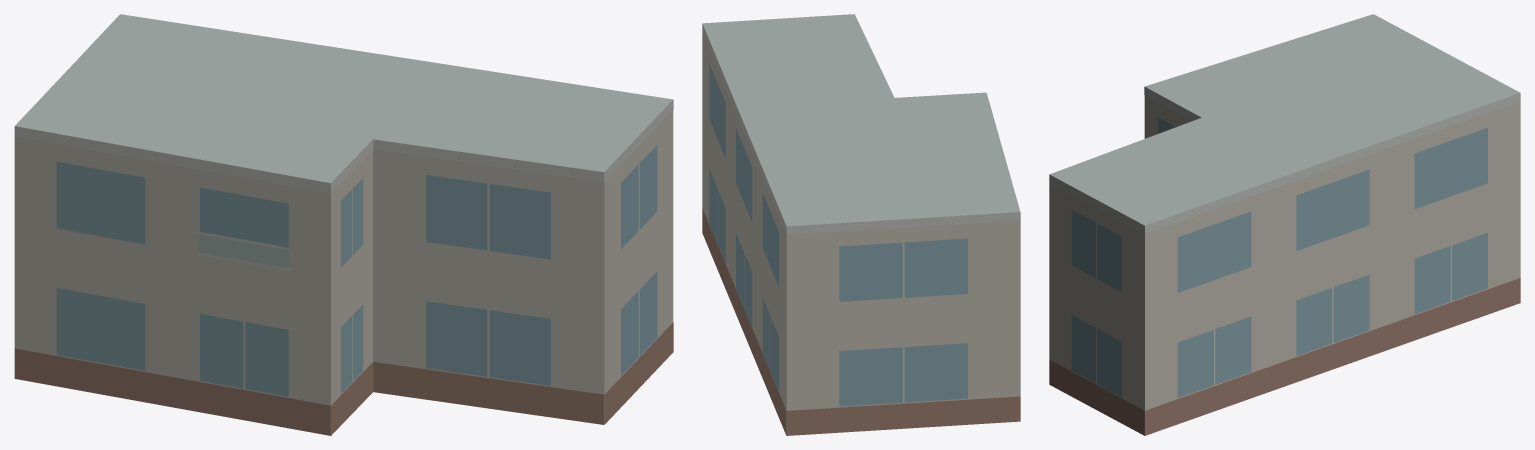
The model's file is survey-upis-32905699.glb.
The picture shows the model from 3 angles, left to right: view 1: azimuth 30°, elevation 25°; view 2: azimuth 150°, elevation 25°; view 3: azimuth 270°, elevation 25°; orthographic projection. The views are drawn at different scales.
Parts seen in each view (by area): view 1: survey-upis-32905699.tmp; view 2: survey-upis-32905699.tmp; view 3: survey-upis-32905699.tmp.
Boxes of the visible parts, x1,y1,x2,y2 form: survey-upis-32905699.tmp: (14, 14, 673, 435); survey-upis-32905699.tmp: (702, 14, 1020, 435); survey-upis-32905699.tmp: (1049, 14, 1520, 435).
Size of the model in its own units: 13.18 by 6.1 by 12.4.
